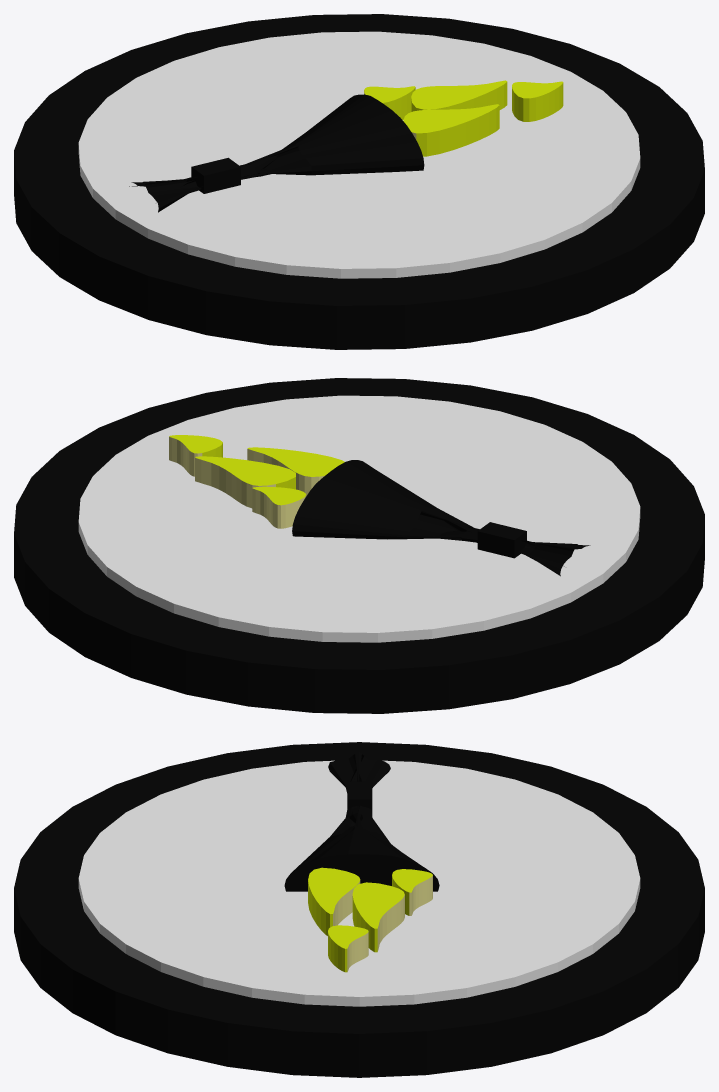
File: Symbol(7).fbx
3 renders of one model, top to bottom at view 1: azimuth 30°, elevation 25°; view 2: azimuth 150°, elevation 25°; view 3: azimuth 270°, elevation 25°, orthographic.
Visible parts, largest first — view 1: Circle.010, Cylinder.002; view 2: Circle.010, Cylinder.002; view 3: Circle.010, Cylinder.002.
Boxes of the visible parts, bbox=[...] form: Circle.010: bbox=[14, 14, 704, 349]; Cylinder.002: bbox=[129, 80, 563, 212]; Circle.010: bbox=[14, 378, 704, 713]; Cylinder.002: bbox=[169, 435, 590, 576]; Circle.010: bbox=[14, 742, 704, 1077]; Cylinder.002: bbox=[284, 751, 439, 972].
Bounding box in the file's own units: 265 × 38.49 × 265.
